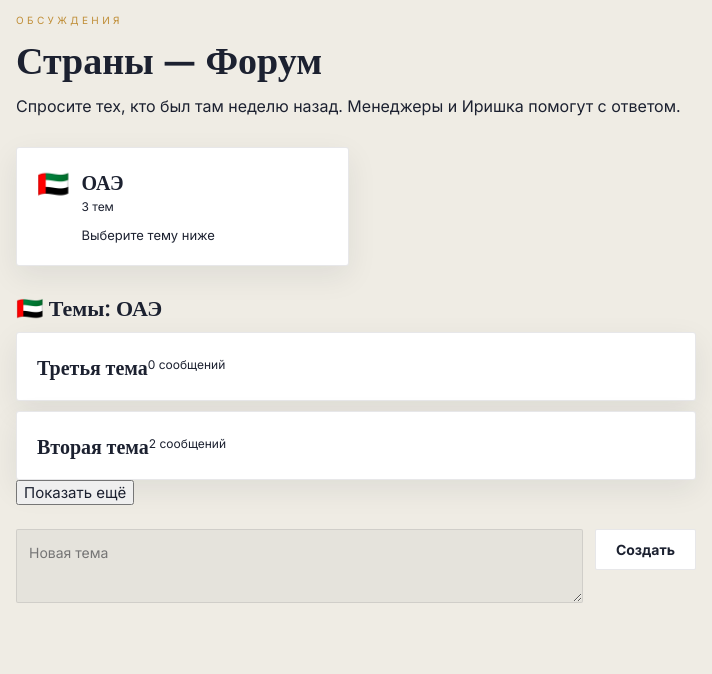
Test: Forum pagination › accumulates topic pages and removes the control at the end
Check: the heading "Страны — Форум" is shown, box [16, 33, 322, 84]
Check: the heading "🇦🇪 Темы: ОАЭ" is shown, box [16, 292, 162, 322]
Step 1. Click the button "Показать ещё" → point(75, 493), box [16, 480, 134, 505]
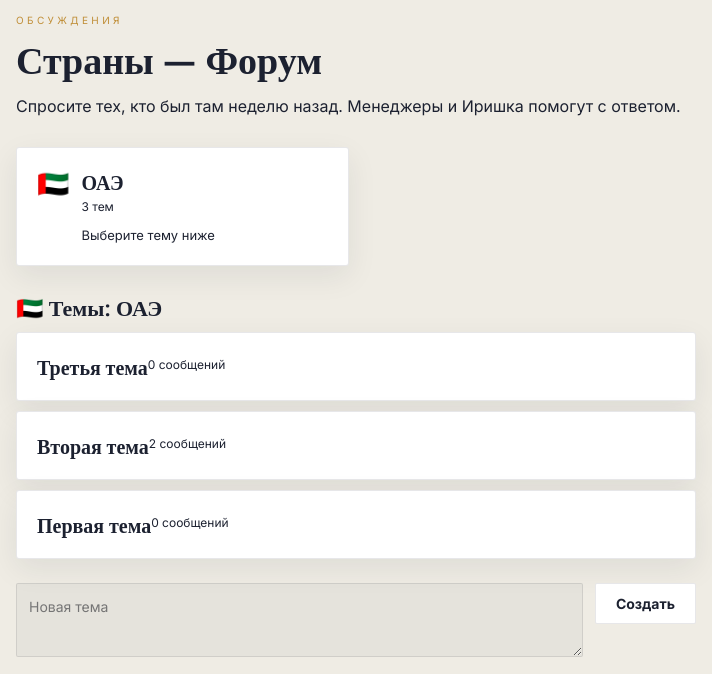
Check: the text "Первая тема" is shown, box [37, 511, 151, 538]
Check: the button "Показать ещё" is gone
